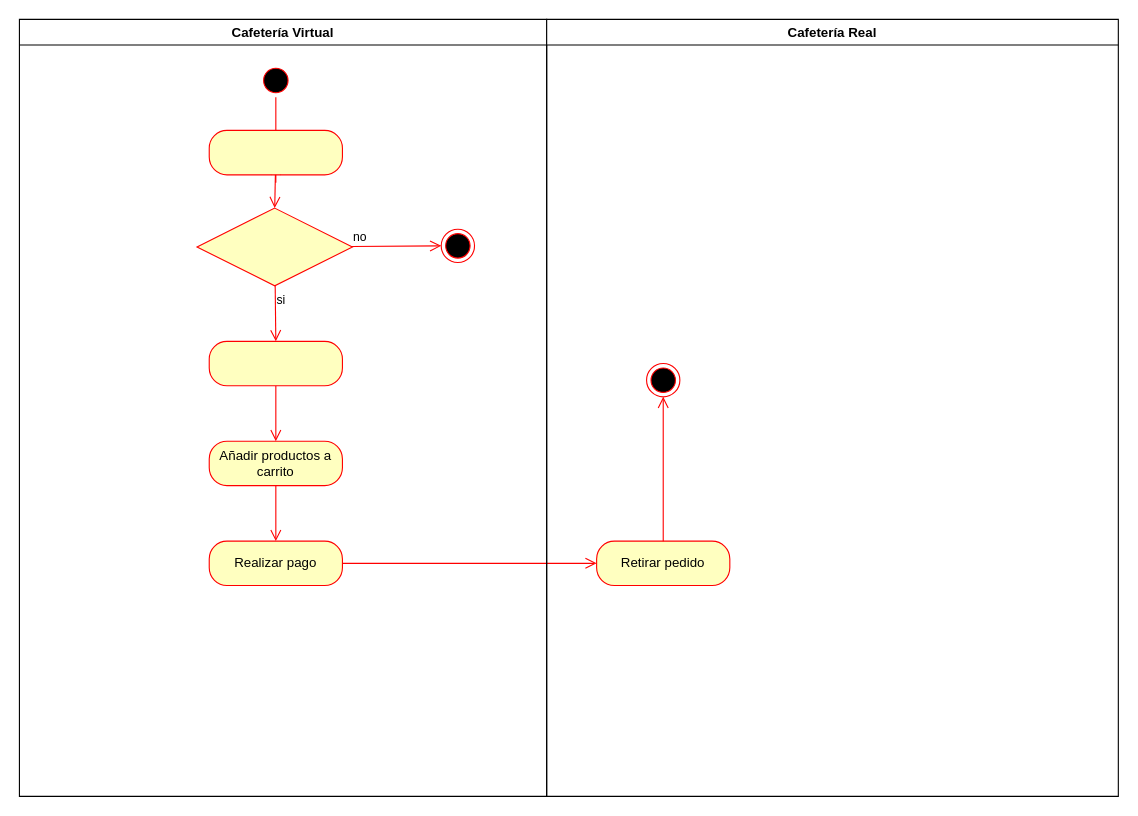
This 1138x816 diagram has some shape labels left out. Here are the shapes that lost their labels. From the top down, the centre of each, then its label:
the point at 275,152: Iniciar sesión
the point at 274,246: Credenciales Correctas
the point at 275,363: Navegar a Cafetería
